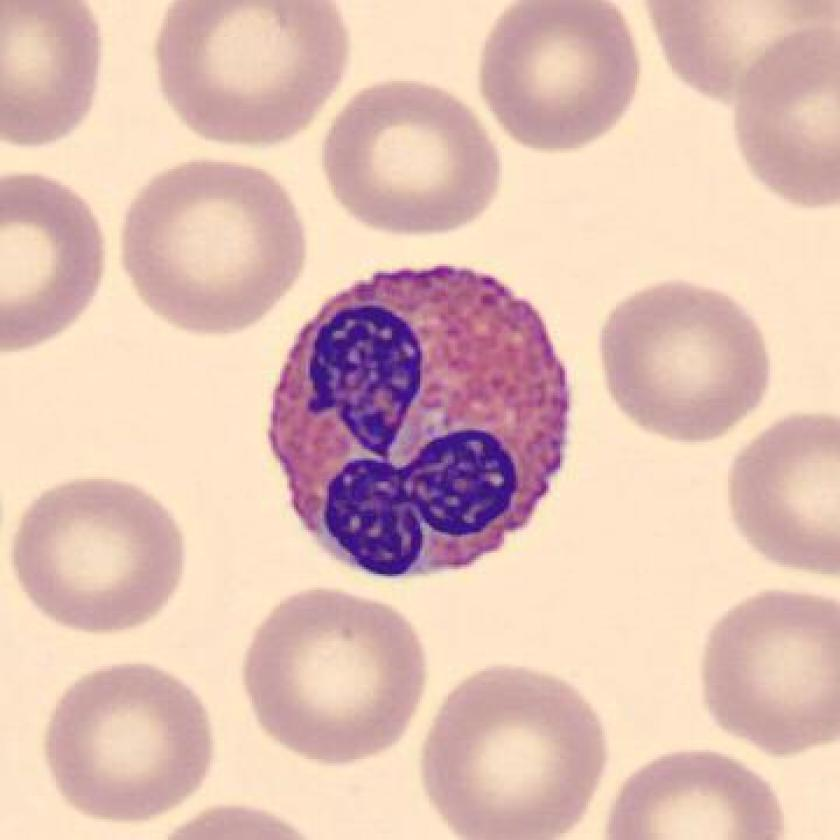eosinophil: (260, 254, 589, 601)
